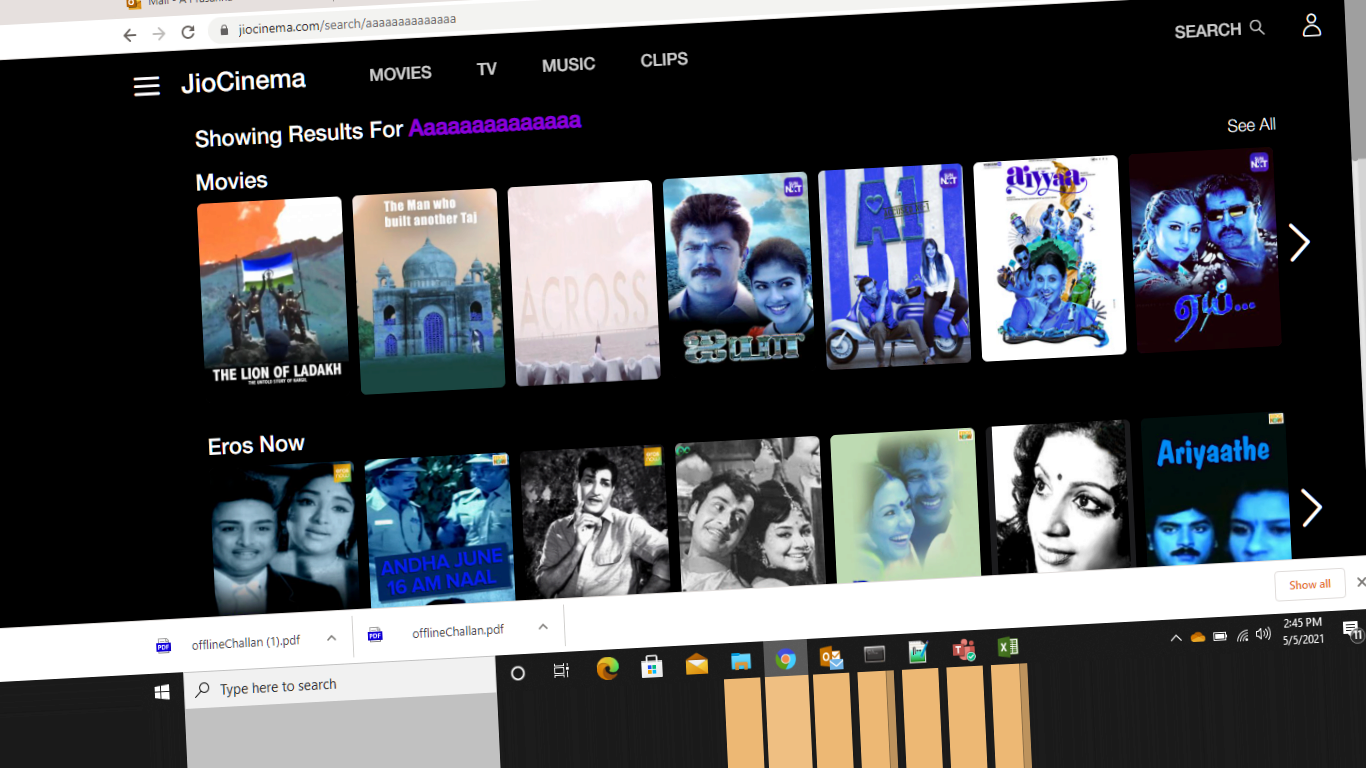profileicon: (1293, 5, 1326, 51)
resultsfound: (179, 115, 618, 172)
searchtextbox: (1152, 5, 1282, 45)
